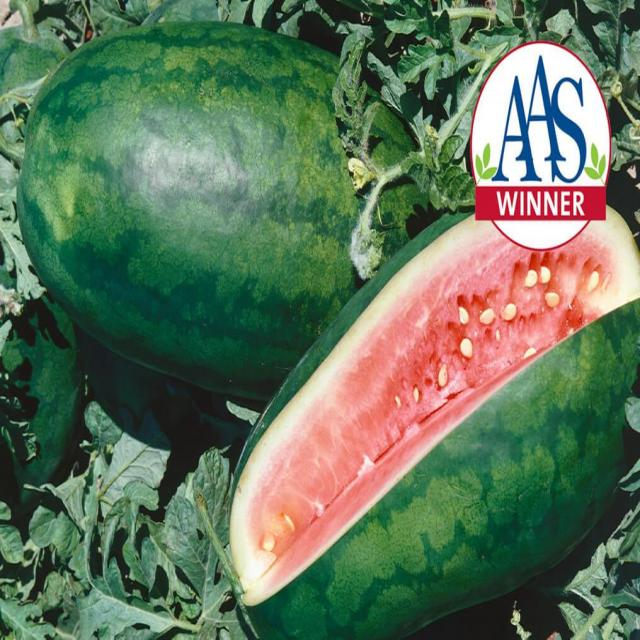watermelon: (224, 171, 640, 638), (16, 20, 426, 420)
